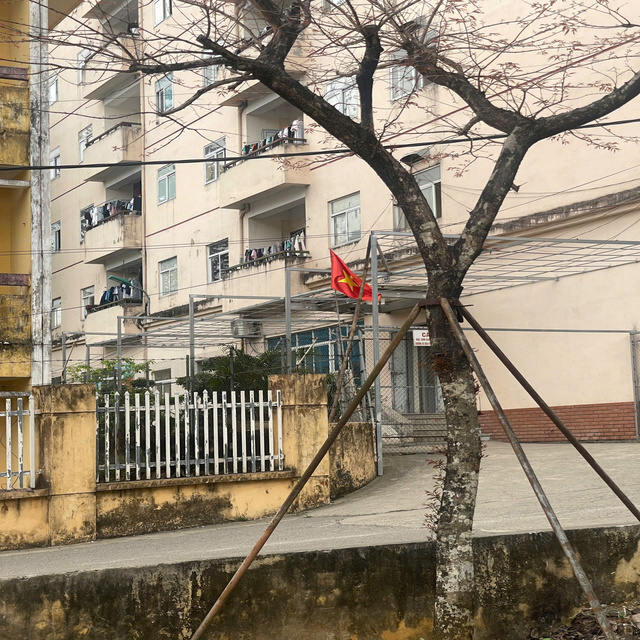laco: (316, 248, 397, 305)
